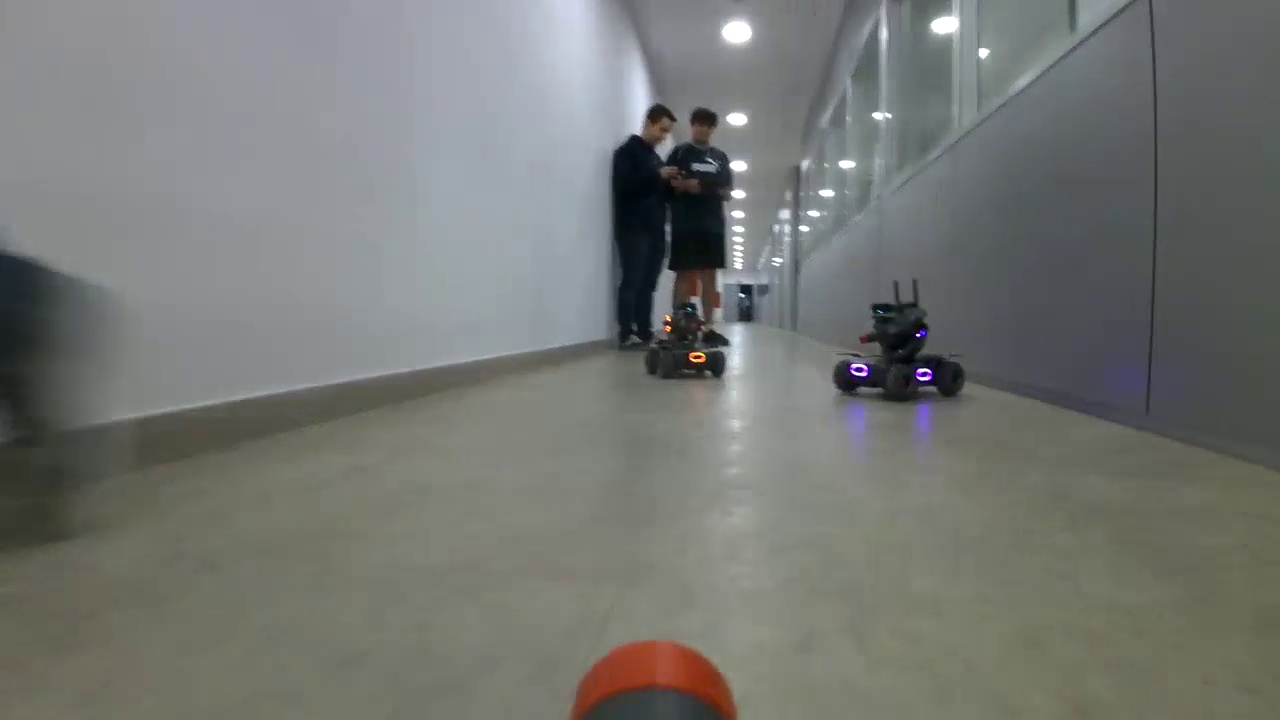robot: (832, 301, 969, 403), (643, 303, 727, 382)
